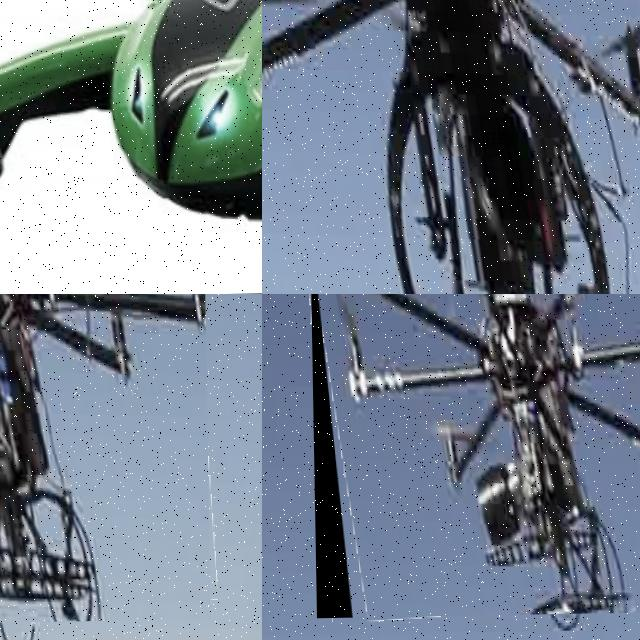0: (262, 0, 640, 294), (309, 294, 640, 618), (0, 294, 210, 628)
drone: (0, 0, 262, 294)
